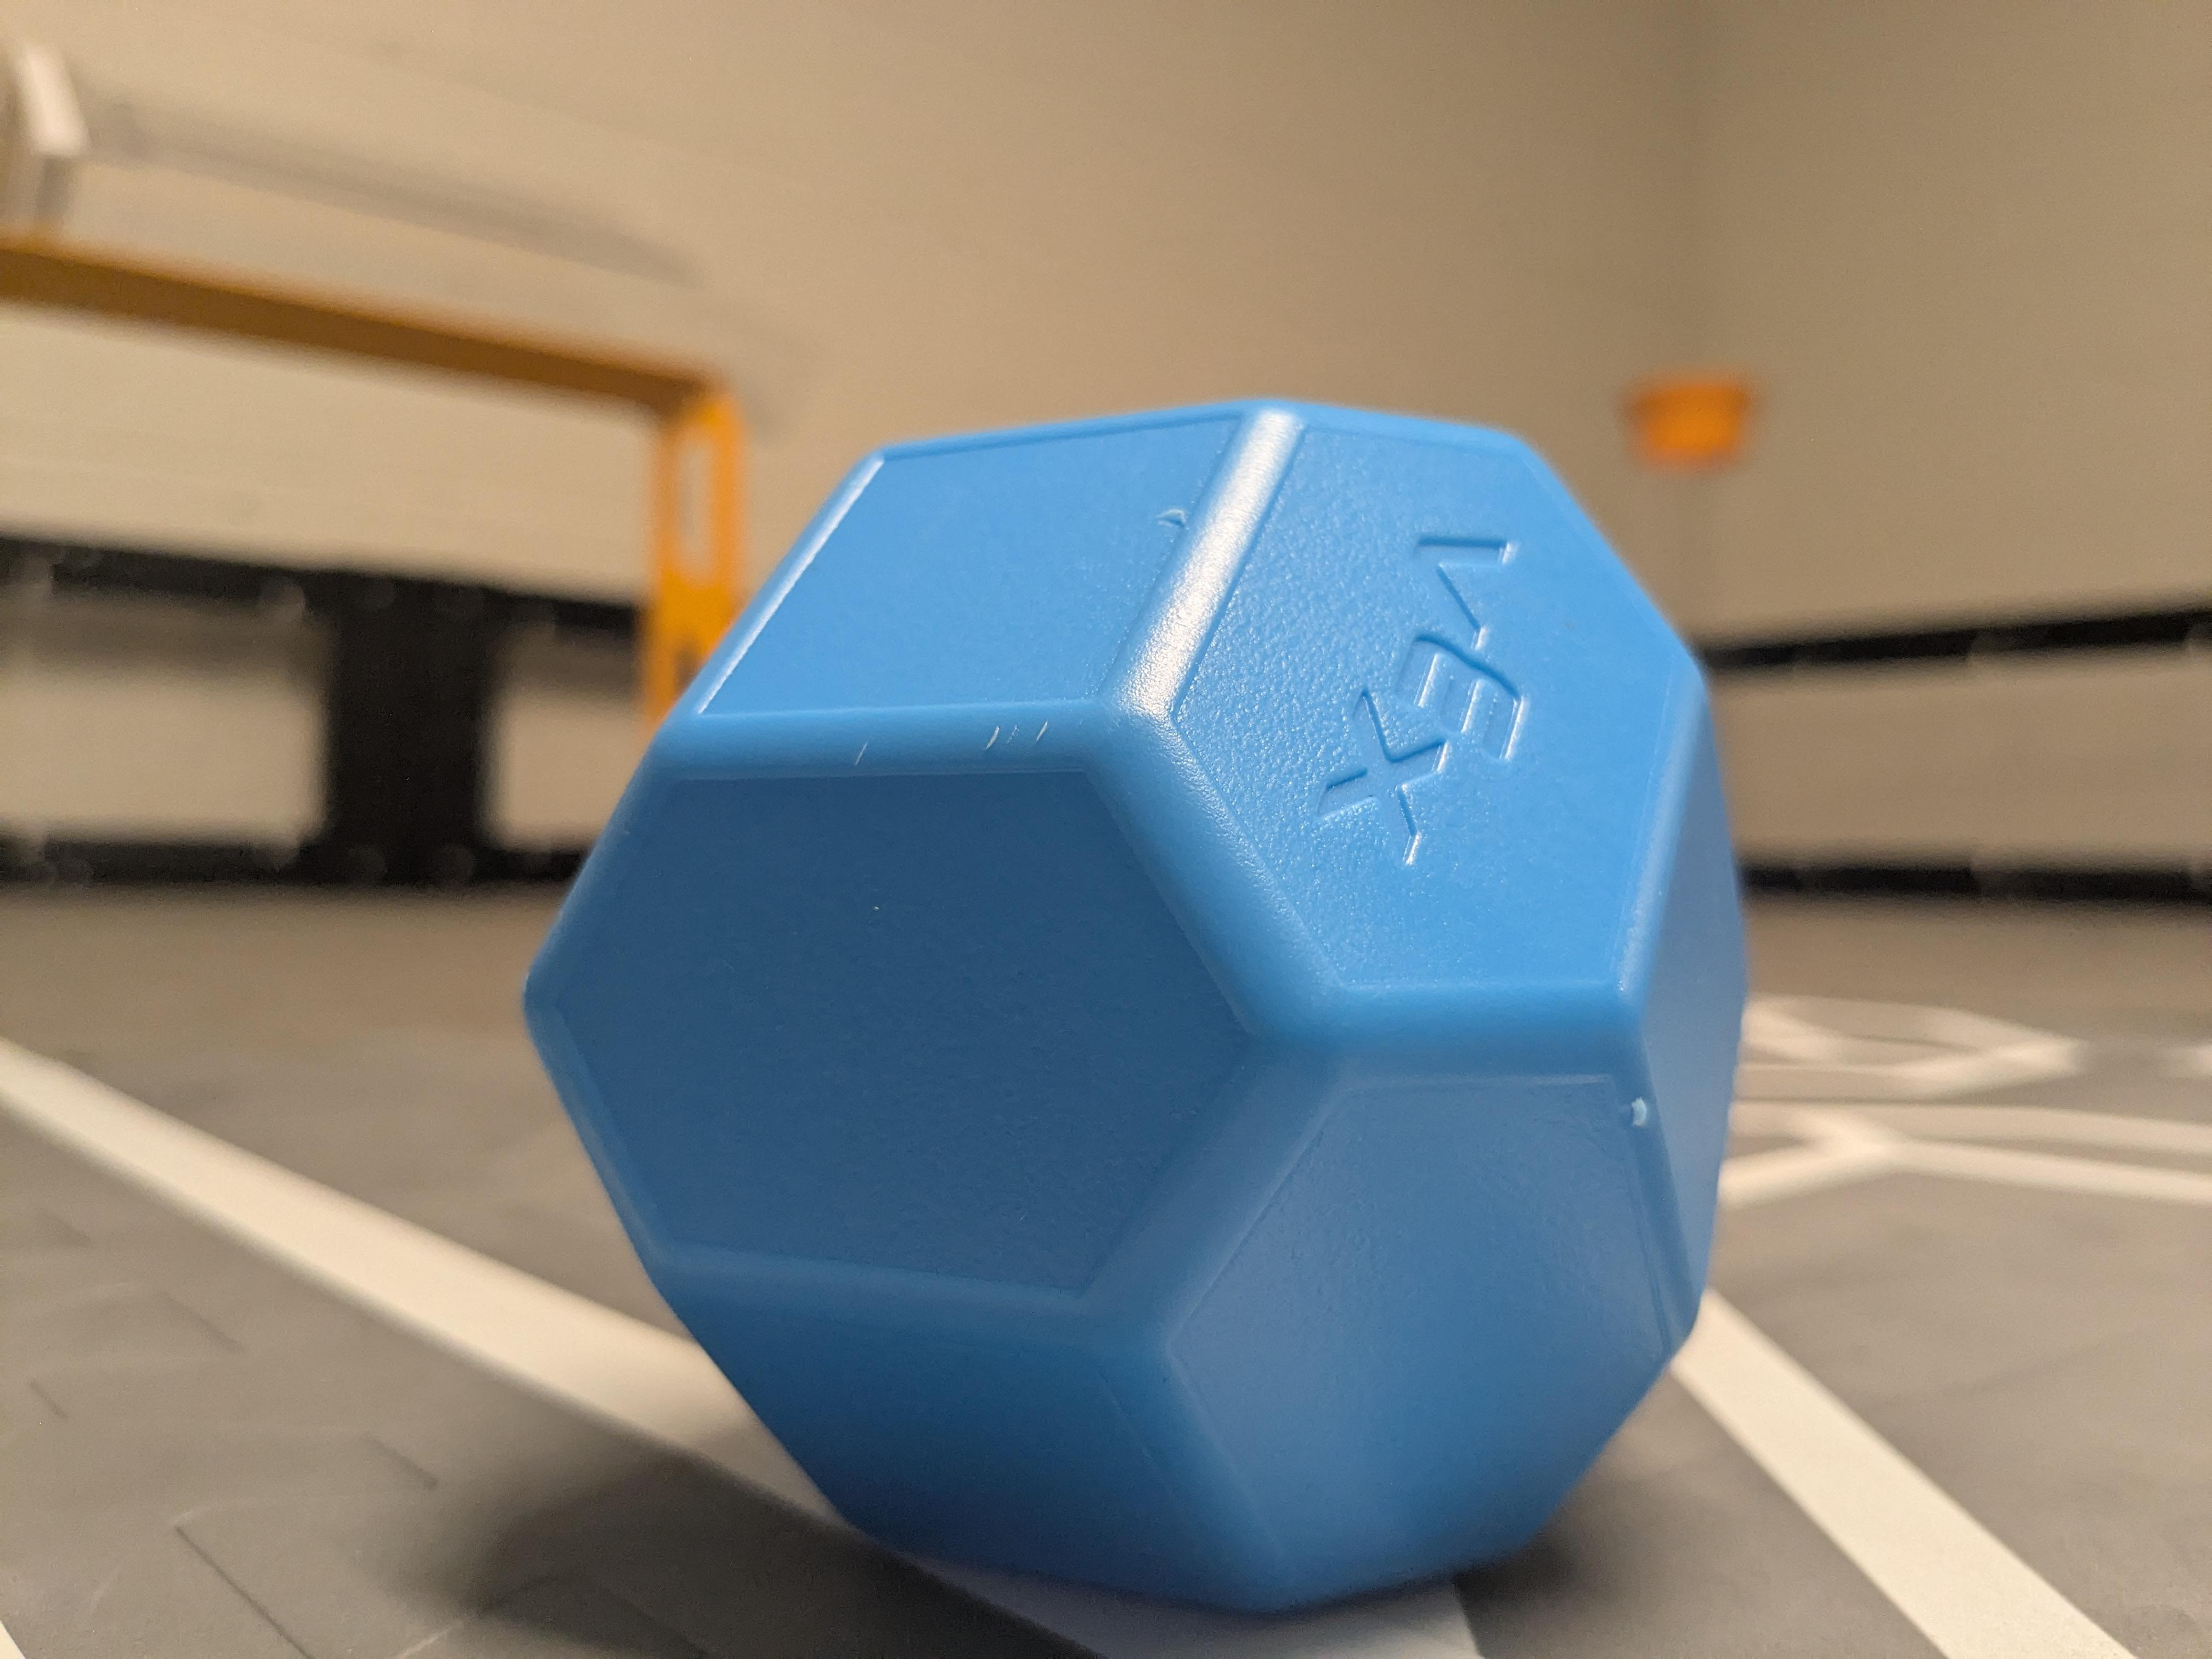Vex-Pieces-BLUE: (528, 401, 1745, 1614)
